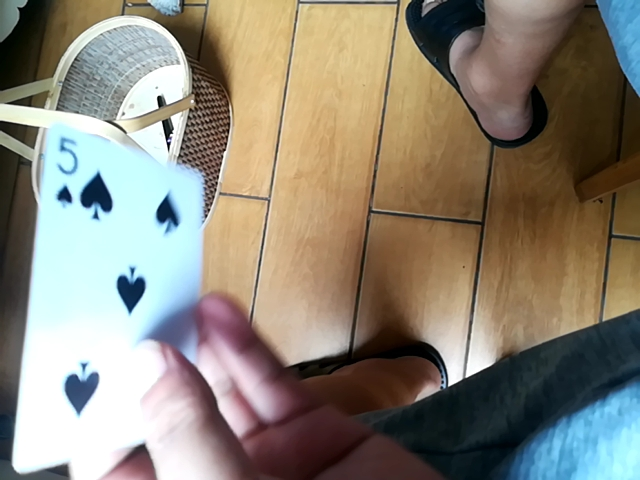ht 5: (10, 109, 213, 476)
